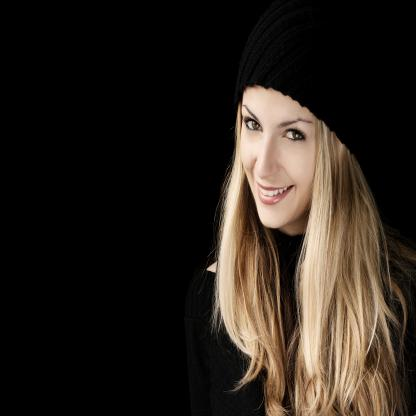Eye: (280, 123, 309, 143), (242, 117, 264, 135)
Mouth: (252, 180, 292, 208)
Nose: (252, 139, 282, 183)
